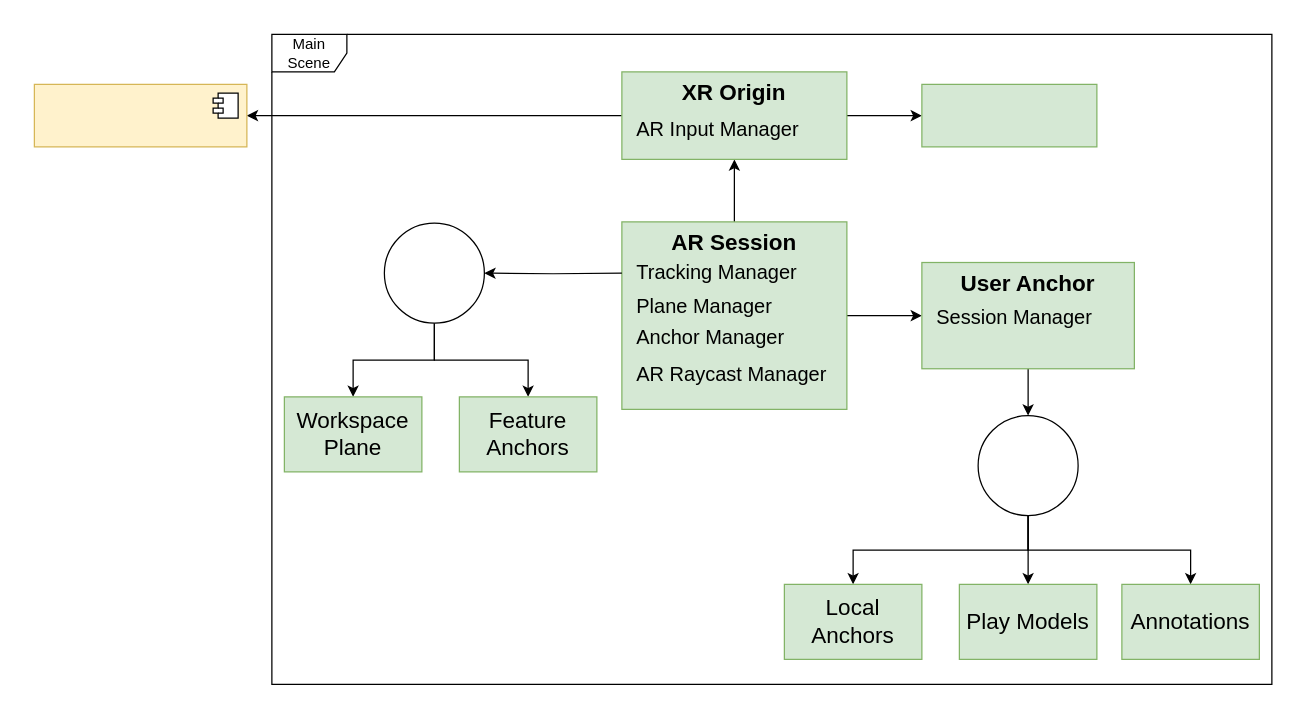
Some shapes in this 1305 by 718 pixel diagram are drawn without their labels. The shapes that lost their labels are listed below. From the top down, each one's centre as x and y in pixels, then its label:
At (x=140, y=115): "Input System".
At (x=1009, y=115): "Main Camera".
At (x=433, y=272): "Tracked Objects".
At (x=1027, y=465): "Network Objects".
